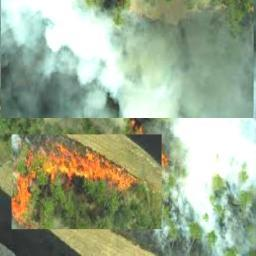Low smoke: (1, 0, 227, 133), (167, 107, 256, 256)
Small fire: (6, 138, 168, 226)
